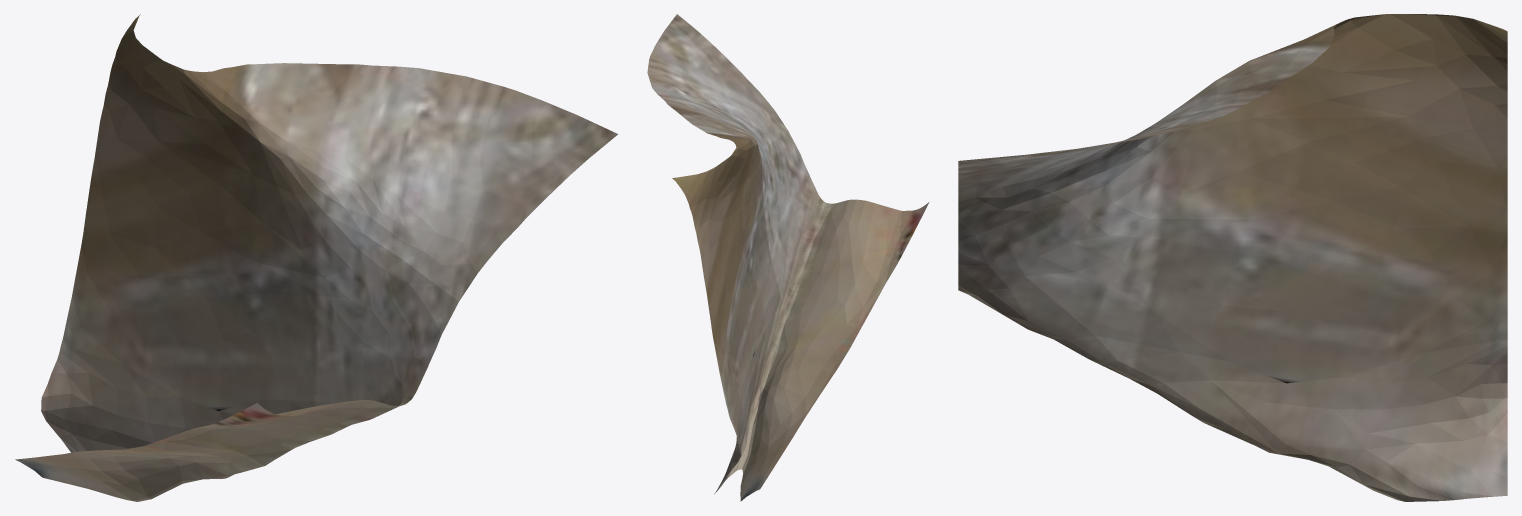
The picture shows the model from 3 angles, left to right: view 1: azimuth 30°, elevation 25°; view 2: azimuth 150°, elevation 25°; view 3: azimuth 270°, elevation 25°; orthographic projection. The views are drawn at different scales.
Size of the model in its own units: 73.78 by 85.74 by 85.74.
Materials: 1 (1 with a texture image).
